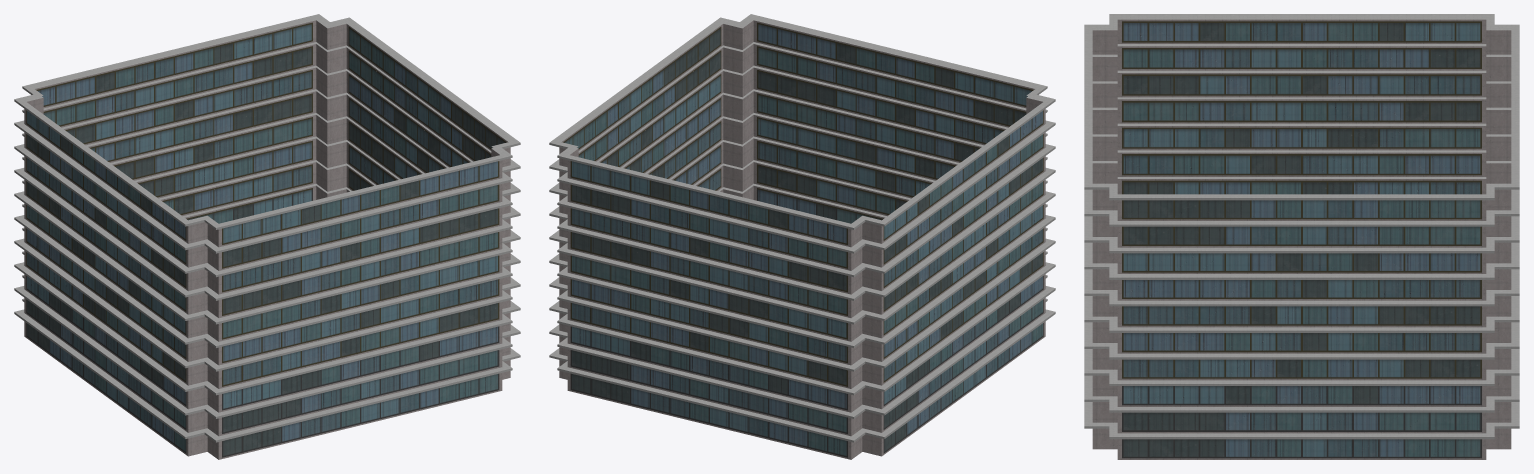
The model's file is jctBld50E_mdl_low.fbx.
3 views of the same model, side by side, from view 1: azimuth 30°, elevation 25°; view 2: azimuth 150°, elevation 25°; view 3: azimuth 270°, elevation 25° (orthographic). The views are drawn at different scales.
Parts seen in each view (by area): view 1: jctBld50E_mdl_low; view 2: jctBld50E_mdl_low; view 3: jctBld50E_mdl_low.
Boxes of the visible parts, <box> form: jctBld50E_mdl_low: <box>14,14,520,459</box>; jctBld50E_mdl_low: <box>549,14,1055,459</box>; jctBld50E_mdl_low: <box>1084,14,1519,459</box>.
Bounding box in the file's own units: 5200 × 3500 × 5200.
